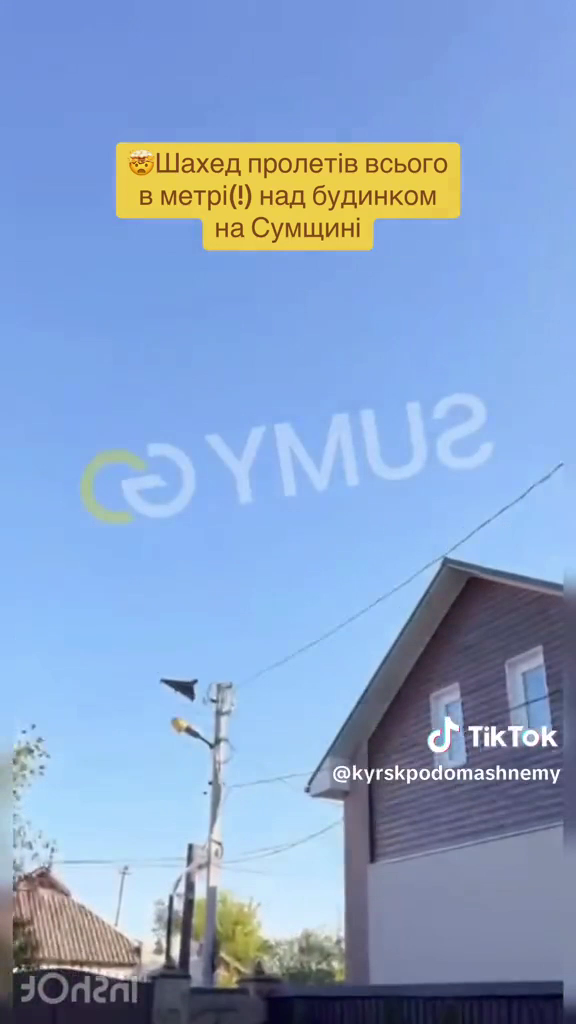shahed: (158, 673, 200, 704)
